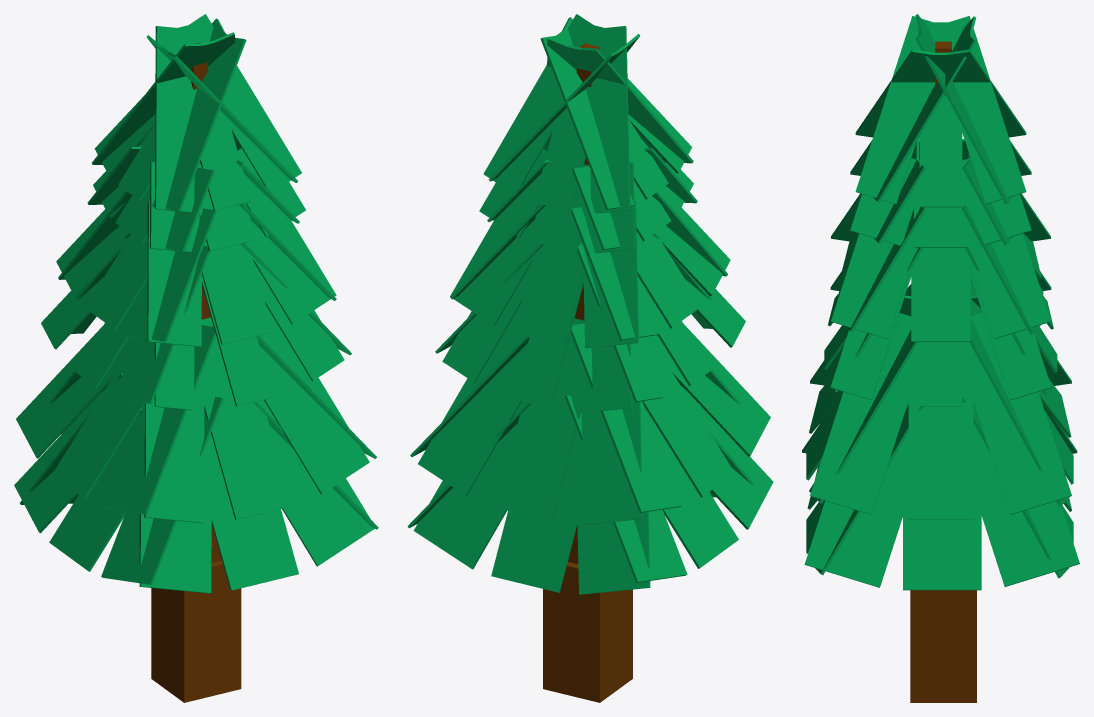
File: tree-pine.glb
3 renders of one model, left to right at view 1: azimuth 30°, elevation 25°; view 2: azimuth 150°, elevation 25°; view 3: azimuth 270°, elevation 25°, orthographic.
Visible parts, largest first — view 1: cube (×44); view 2: cube (×45); view 3: cube (×43).
Boxes of the visible parts, box(x1,y1,x2,y2) form: cube (×44): box(14, 14, 378, 702); cube (×45): box(407, 14, 773, 702); cube (×43): box(804, 16, 1079, 702).
Bounding box in the file's own units: 1.69 × 4.12 × 1.56.
Materials: 2 (2 with a texture image).
